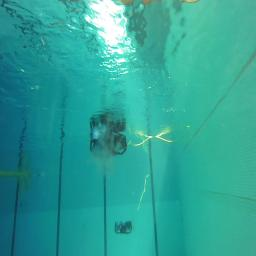front: (90, 131, 128, 155), (113, 221, 133, 233), (114, 221, 132, 233)
